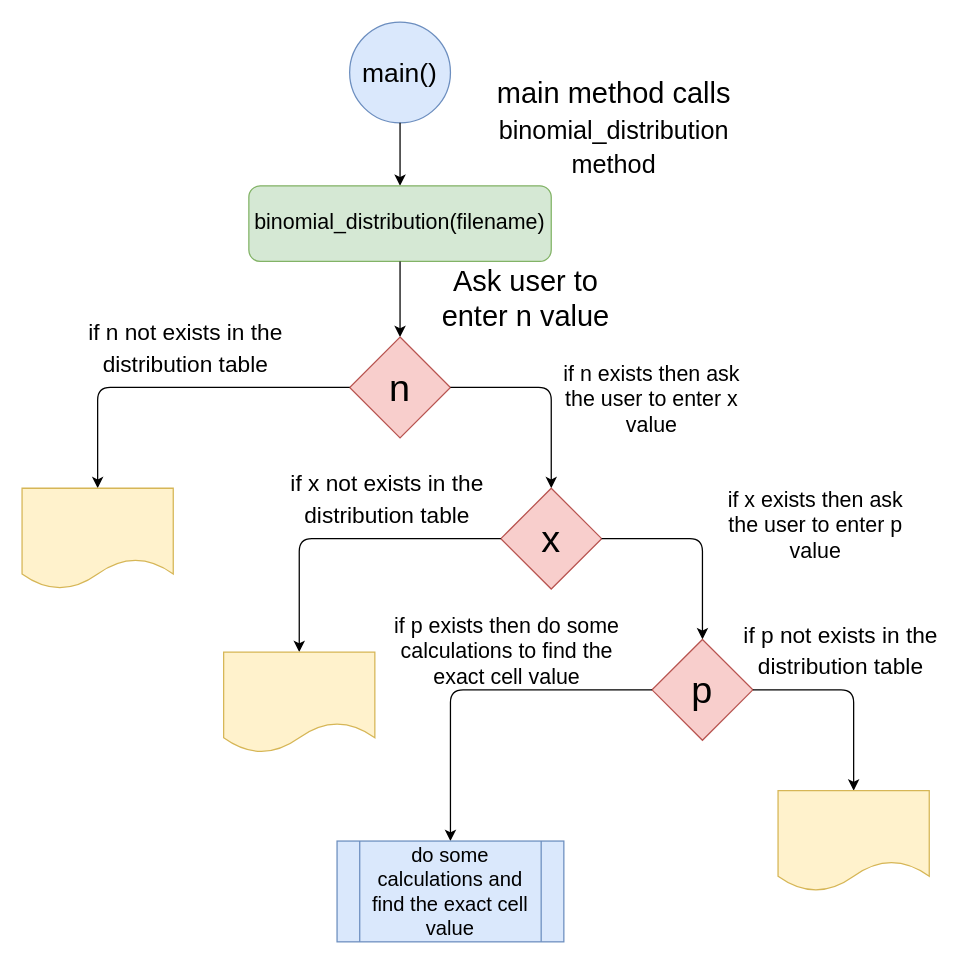
This 964x964 diagram has some shape labels left out. Each missing label, with the centre of its shape:
n not found program terminates: pixel 97 538
p not found program terminates: pixel 853 840
x not found program terminates: pixel 298 702
